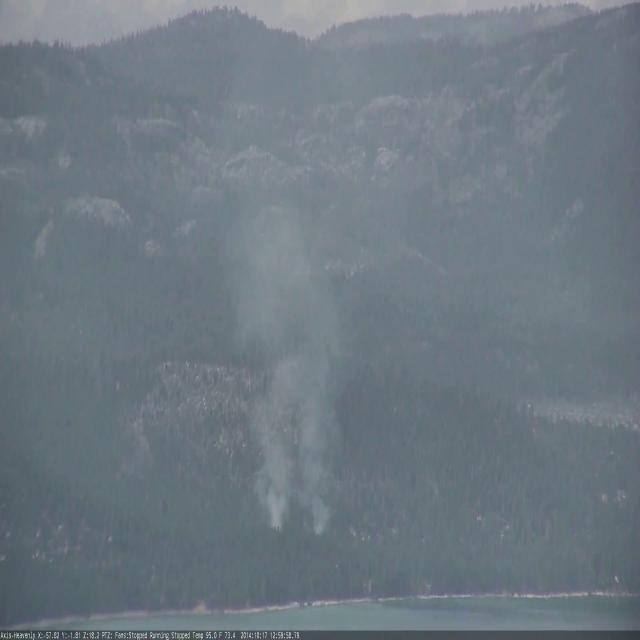smoke: (214, 147, 416, 534)
